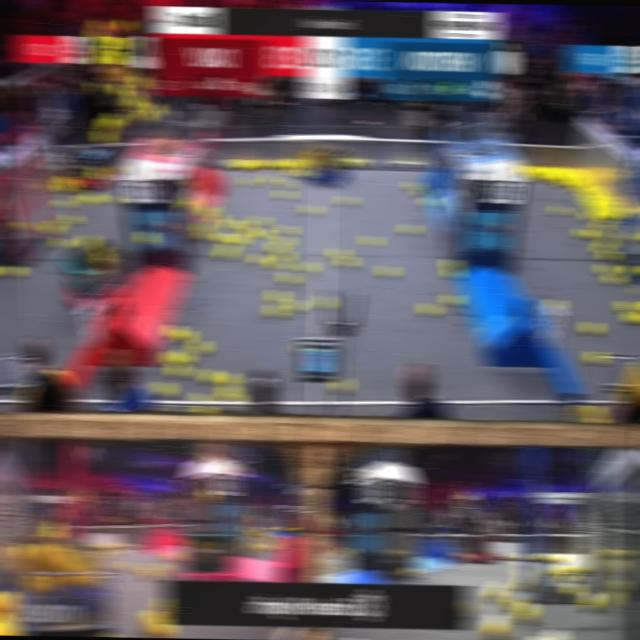ball_airborne: (200, 487, 216, 504), (125, 90, 141, 106), (106, 112, 122, 126), (111, 85, 127, 98), (88, 30, 104, 43), (145, 102, 160, 115), (136, 110, 152, 122), (96, 132, 112, 144), (98, 118, 114, 130), (132, 76, 147, 88), (118, 19, 133, 30), (92, 20, 107, 31), (88, 56, 104, 66), (95, 45, 109, 56), (203, 441, 217, 451), (89, 84, 102, 94), (202, 454, 215, 463), (126, 38, 137, 48)
ball_ground: (482, 616, 506, 640), (516, 601, 536, 622), (582, 593, 600, 612), (156, 382, 172, 398), (190, 340, 206, 356), (202, 370, 219, 384), (334, 378, 349, 393), (588, 350, 604, 364), (167, 324, 182, 338), (317, 294, 332, 308), (584, 321, 600, 334), (420, 304, 436, 317), (176, 331, 192, 344), (228, 233, 246, 244), (80, 236, 94, 250), (269, 305, 284, 318), (285, 300, 300, 312), (445, 292, 460, 304), (270, 289, 285, 301), (625, 312, 640, 324), (219, 373, 235, 384), (380, 266, 394, 278), (598, 265, 613, 276), (622, 266, 637, 277), (362, 236, 377, 247), (250, 254, 266, 264), (216, 232, 229, 244), (300, 263, 314, 274), (155, 563, 169, 574), (605, 274, 620, 284), (14, 220, 28, 230), (120, 561, 134, 571), (278, 224, 292, 234), (86, 193, 100, 203), (56, 238, 70, 248), (63, 214, 77, 224), (200, 206, 214, 216), (554, 206, 567, 216), (242, 176, 255, 186), (223, 218, 236, 228), (408, 180, 421, 190), (423, 196, 436, 206), (254, 230, 268, 238), (251, 216, 265, 224), (304, 206, 318, 214), (57, 200, 71, 208), (277, 190, 291, 198), (576, 228, 590, 236), (108, 196, 121, 204), (210, 214, 223, 222), (264, 175, 276, 183), (418, 188, 430, 196), (632, 286, 640, 296)
goal: (456, 116, 520, 154)
robot_blue: (300, 142, 350, 187)
robot_red: (60, 238, 126, 310), (58, 142, 118, 190), (448, 532, 498, 562)
